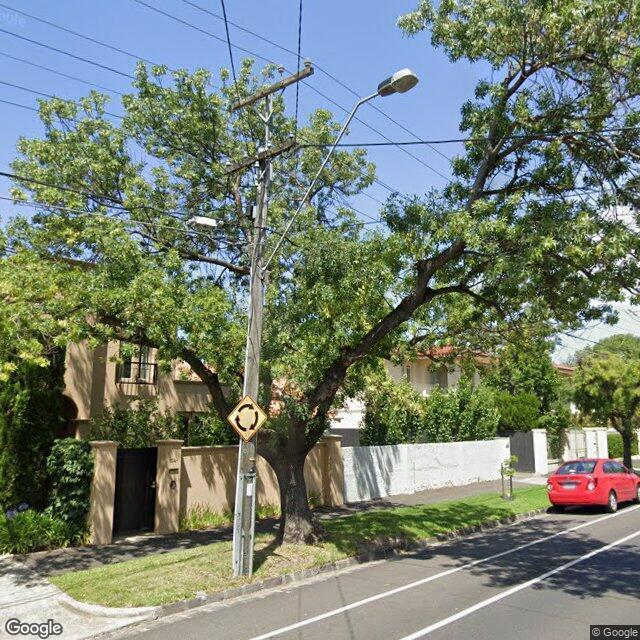crossarm: (231, 57, 315, 111), (224, 133, 298, 174)
streetlight: (262, 68, 421, 272)
timber-pole: (232, 84, 273, 578)
